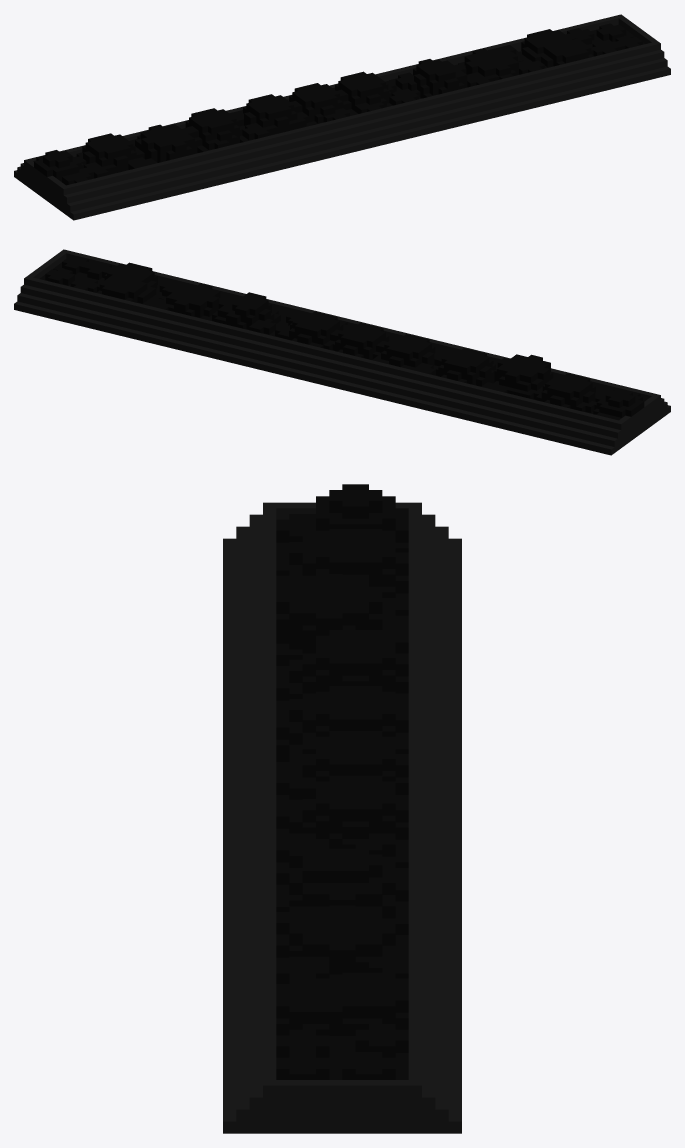
File: CoalBed.obj
3 renders of one model, top to bottom at view 1: azimuth 30°, elevation 25°; view 2: azimuth 150°, elevation 25°; view 3: azimuth 270°, elevation 25°, orthographic. The views are drawn at different scales.
Visible parts, largest first — view 1: CoalBed; view 2: CoalBed; view 3: CoalBed.
Part boxes in pixels (<box>): CoalBed: <box>14,14,670,220</box>; CoalBed: <box>14,249,670,455</box>; CoalBed: <box>223,484,461,1133</box>.
Bounding box in the file's own units: 104 × 6 × 18.
1 material, 1 textured.
